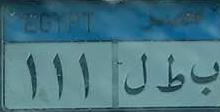1: (75, 49, 94, 102), (24, 51, 41, 102), (51, 49, 67, 103)
Taa: (154, 51, 186, 96)
baa: (188, 60, 220, 97)
laam: (122, 48, 148, 98)
